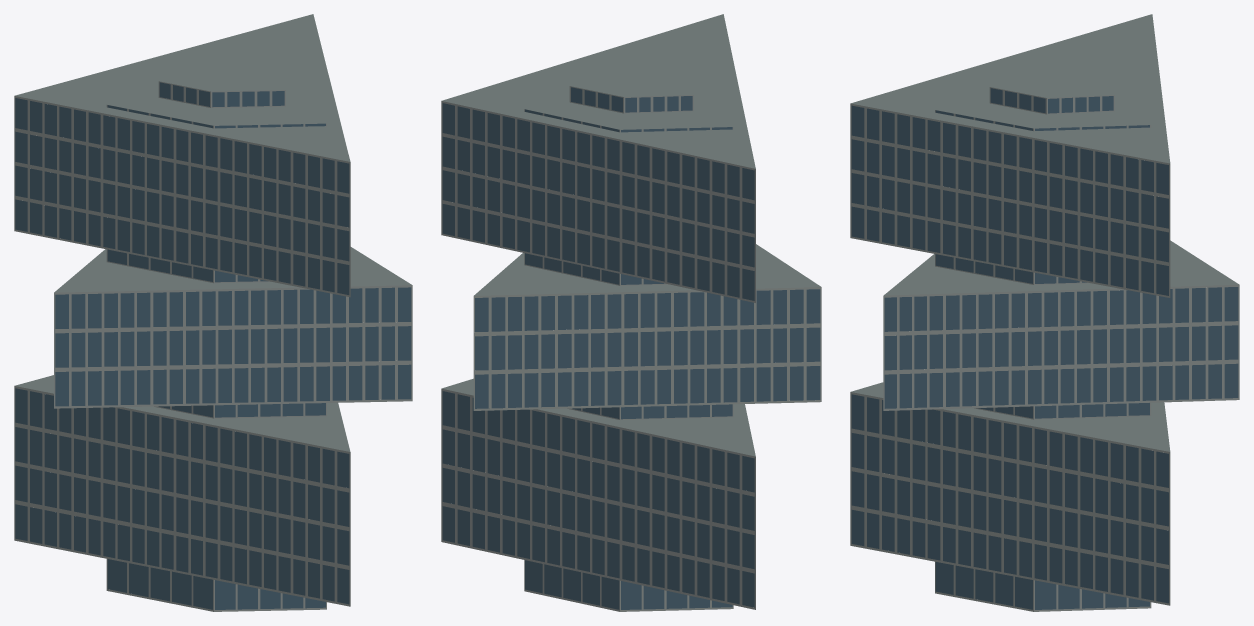
File: nhow-amsterdam-rai-far.glb
3 renders of one model, left to right at view 1: azimuth 30°, elevation 25°; view 2: azimuth 150°, elevation 25°; view 3: azimuth 270°, elevation 25°, orthographic.
Parts seen in each view (by area): view 1: nhow-amsterdam-rai-0-glass, nhow-amsterdam-rai-0-metal, nhow-amsterdam-rai-0-roof; view 2: nhow-amsterdam-rai-0-glass, nhow-amsterdam-rai-0-metal, nhow-amsterdam-rai-0-roof; view 3: nhow-amsterdam-rai-0-glass, nhow-amsterdam-rai-0-metal, nhow-amsterdam-rai-0-roof.
Part boxes in pixels (left/top/right/bottom): nhow-amsterdam-rai-0-glass: left=15, top=82, right=411, bottom=609; nhow-amsterdam-rai-0-metal: left=14, top=81, right=412, bottom=611; nhow-amsterdam-rai-0-roof: left=14, top=14, right=412, bottom=451; nhow-amsterdam-rai-0-glass: left=442, top=87, right=820, bottom=609; nhow-amsterdam-rai-0-metal: left=441, top=86, right=821, bottom=611; nhow-amsterdam-rai-0-roof: left=441, top=14, right=820, bottom=456; nhow-amsterdam-rai-0-glass: left=851, top=88, right=1238, bottom=609; nhow-amsterdam-rai-0-metal: left=850, top=87, right=1239, bottom=611; nhow-amsterdam-rai-0-roof: left=850, top=14, right=1238, bottom=451.
Bounding box in the file's own units: 60.89 × 91 × 64.23.
